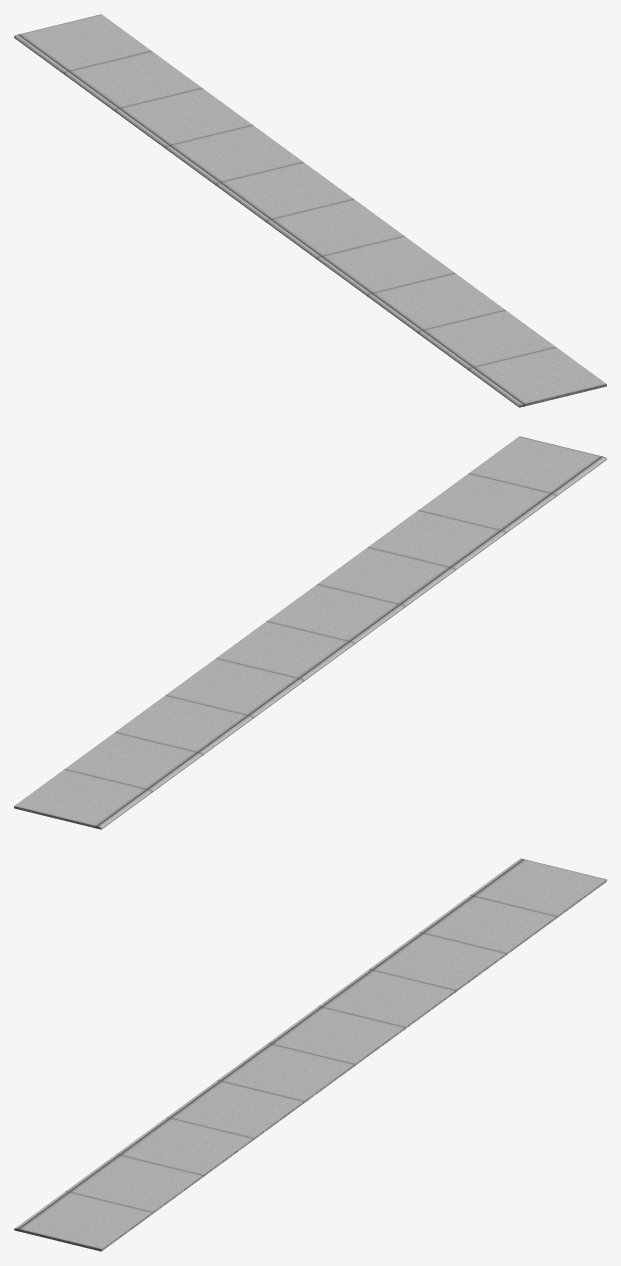
File: sidewalkLarge_10.fbx
3 renders of one model, top to bottom at view 1: azimuth 30°, elevation 25°; view 2: azimuth 150°, elevation 25°; view 3: azimuth 330°, elevation 25°, orthographic.
Parts seen in each view (by area): view 1: tileSidewalkGrass.002; view 2: tileSidewalkGrass.002; view 3: tileSidewalkGrass.002.
Boxes of the visible parts, bbox=[...] form: tileSidewalkGrass.002: bbox=[14, 14, 606, 407]; tileSidewalkGrass.002: bbox=[14, 436, 606, 829]; tileSidewalkGrass.002: bbox=[14, 858, 606, 1251].
Size of the model in its own units: 800 by 20 by 8000.
1 material, 1 textured.
